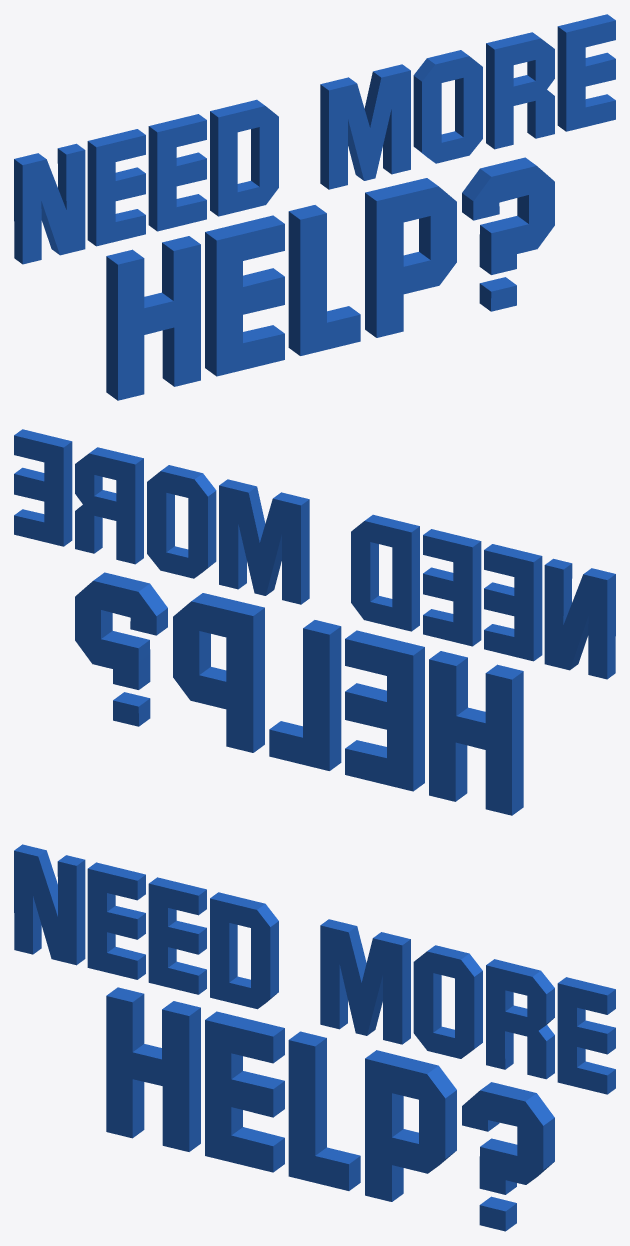
File: help-portal-sign.fbx
3 views of the same model, one above another, from view 1: azimuth 30°, elevation 25°; view 2: azimuth 150°, elevation 25°; view 3: azimuth 330°, elevation 25° (orthographic).
Parts seen in each view (by area): view 1: Text.001; view 2: Text.001; view 3: Text.001.
Part boxes in pixels (x1,y1,x2,y2): Text.001: [14, 14, 615, 400]; Text.001: [14, 429, 615, 815]; Text.001: [14, 844, 615, 1231].
Bounding box in the file's own units: 316 × 132 × 10.78.
